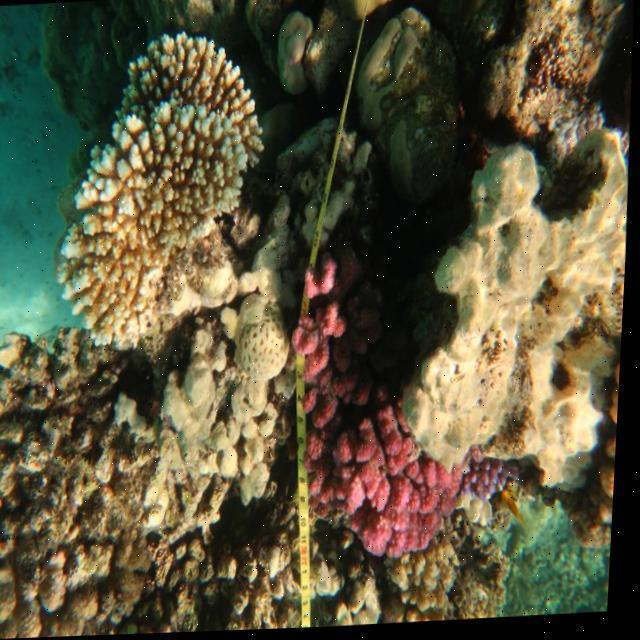Healthy Coral: (275, 247, 479, 568), (61, 45, 271, 334), (466, 450, 527, 503)
